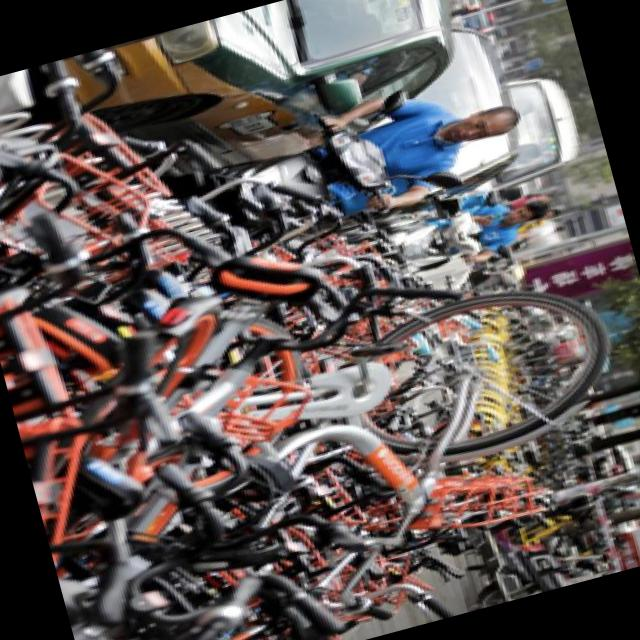bareface: (434, 92, 524, 150), (492, 191, 562, 231)
